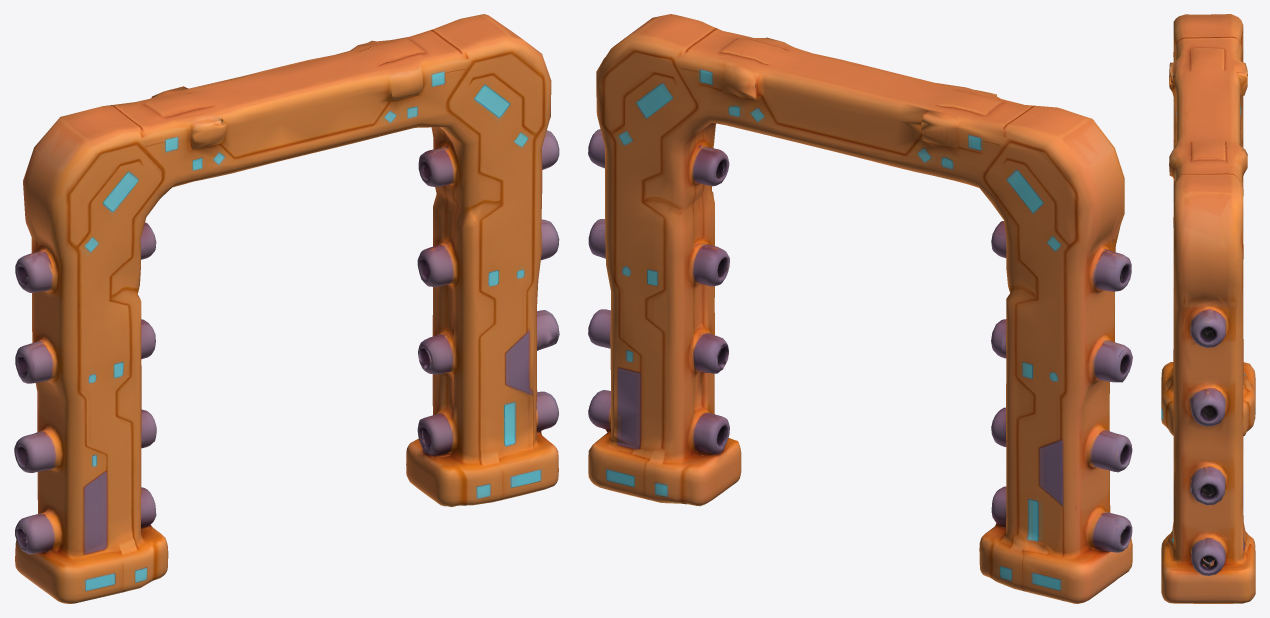
Rendered from Lazer Gate_texture.fbx.
3 renders of one model, left to right at view 1: azimuth 30°, elevation 25°; view 2: azimuth 150°, elevation 25°; view 3: azimuth 270°, elevation 25°, orthographic. The views are drawn at different scales.
Parts seen in each view (by area): view 1: Mesh0; view 2: Mesh0; view 3: Mesh0.
Part boxes in pixels (x1,y1,x2,y2): Mesh0: [14, 14, 559, 603]; Mesh0: [588, 14, 1132, 603]; Mesh0: [1161, 14, 1255, 603].
Size of the model in its own units: 192 by 156 by 33.67.
Materials: 1 (1 with a texture image).
